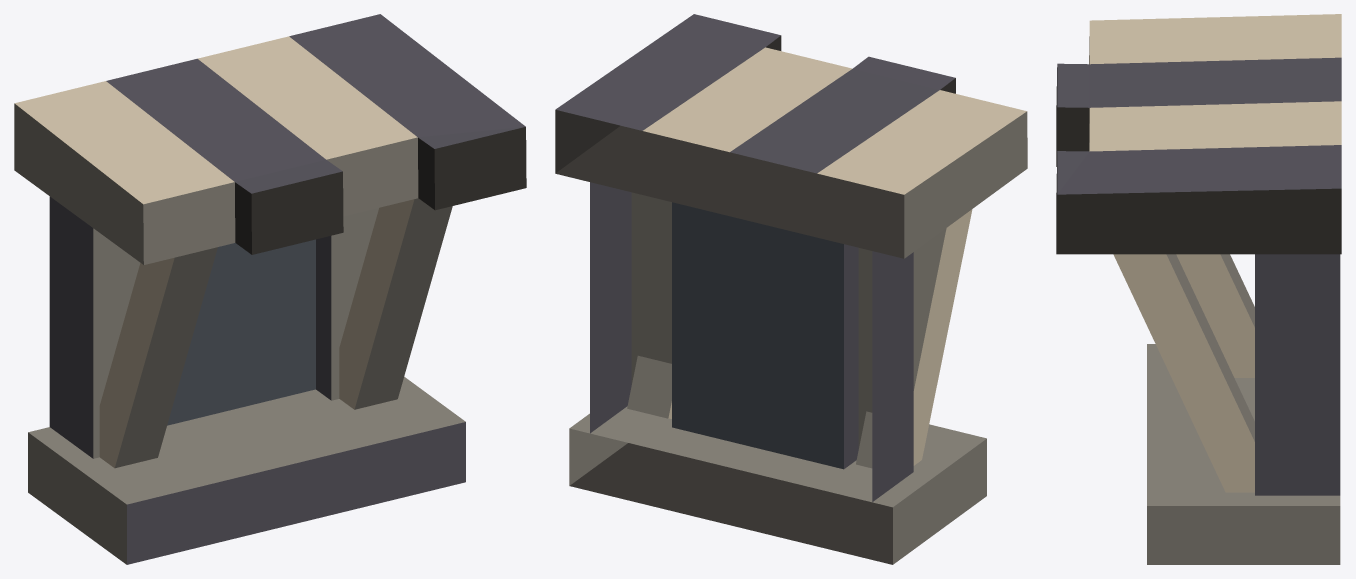
File: TB_D_Bd_Window_SRoof_C.FBX
3 renders of one model, left to right at view 1: azimuth 30°, elevation 25°; view 2: azimuth 150°, elevation 25°; view 3: azimuth 270°, elevation 25°, orthographic. The views are drawn at different scales.
Parts seen in each view (by area): view 1: TB_D_Bd_Window_SRoof_C; view 2: TB_D_Bd_Window_SRoof_C; view 3: TB_D_Bd_Window_SRoof_C.
Boxes of the visible parts, <box> form: TB_D_Bd_Window_SRoof_C: <box>14,14,526,564</box>; TB_D_Bd_Window_SRoof_C: <box>555,14,1027,564</box>; TB_D_Bd_Window_SRoof_C: <box>1056,14,1341,564</box>.
Bounding box in the file's own units: 1.01 × 1.04 × 0.701.
